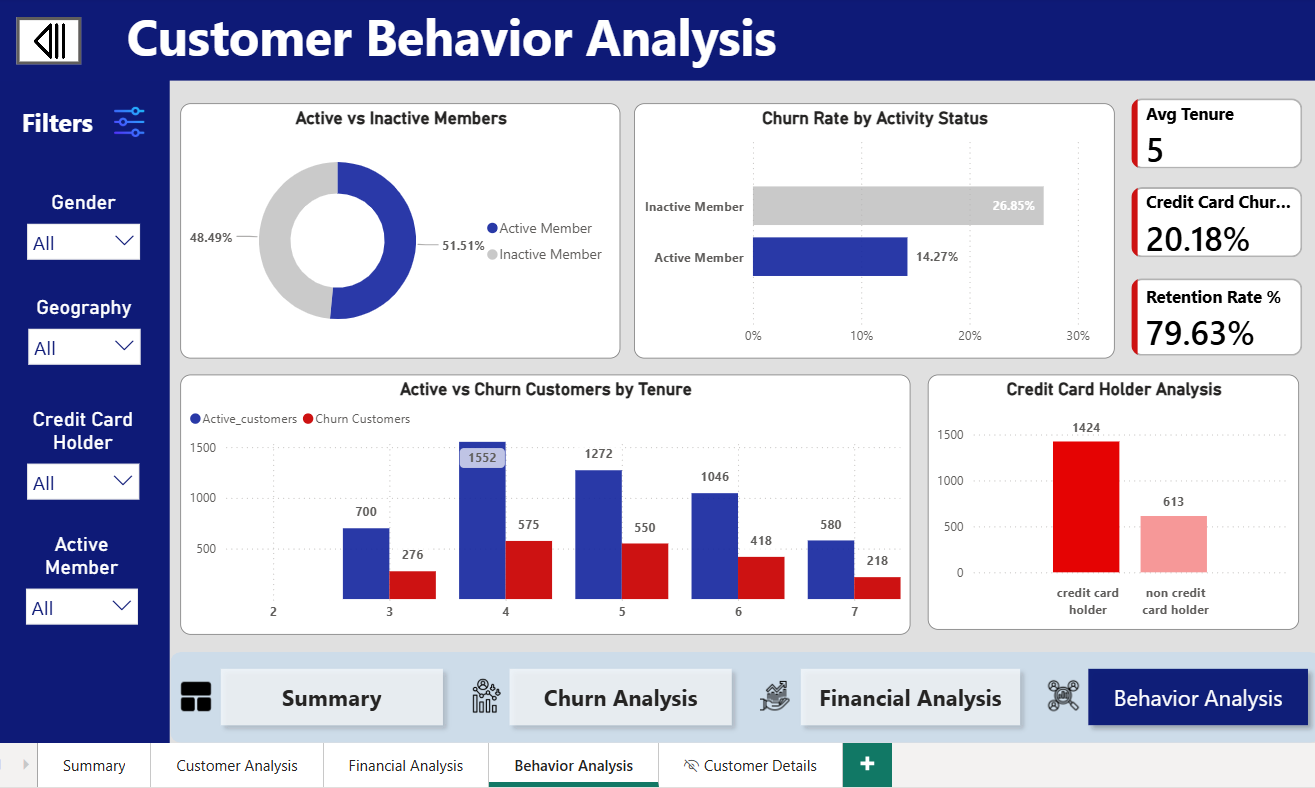

The dashboard page shown, as its layout file describes it:
{"tool":"powerbi","page":{"name":"Behavior Analysis","canvas":[1280,720],"ordinal":3},"visuals":[{"type":"shape","box":[169.7,631.7,1110.3,87.7],"z":0},{"type":"actionButton","box":[210.1,640,232.3,72.3],"z":1000},{"type":"actionButton","box":[488.3,640,232.3,72.3],"z":2000},{"type":"actionButton","box":[1047.7,640,230,72.3],"z":3000},{"type":"image","box":[179.5,658.1,30.6,34.8],"z":4000},{"type":"image","box":[452.2,658.1,45.9,33.4],"z":5000},{"type":"image","box":[738.8,658.1,30.6,34],"z":6000},{"type":"actionButton","box":[769.4,640,229.6,72.3],"z":7000},{"type":"image","box":[1017,658.1,30.6,34],"z":8000},{"type":"shape","box":[0,73,169.7,647],"z":9000},{"type":"shape","box":[0,0,1280,80.7],"z":10000},{"type":"actionButton","box":[22.3,19.5,62.6,45.9],"z":11000},{"type":"donutChart","title":"Active vs Inactive Members","fields":{"Category":["ActiveCustomer.ActiveCategory"],"Y":["01Measures.Total_Customer"]},"box":[180,102.5,425,246.2],"z":12000},{"type":"clusteredColumnChart","title":"Credit Card Holder Analysis","fields":{"Category":["CreditCard.Category"],"Y":["01Measures.Churn Customers"]},"box":[901.2,364.3,358.3,246.1],"z":13000},{"type":"clusteredBarChart","title":"Churn Rate by Activity Status","fields":{"Category":["ActiveCustomer.ActiveCategory"],"Y":["01Measures.Churn Rate %"]},"box":[617.5,102.5,463.8,246.2],"z":14000},{"type":"lineClusteredColumnComboChart","title":"Active vs Churn Customers by Tenure","fields":{"Category":["Bank_Churn.Tenure"],"Y":["01Measures.Active_customers","01Measures.Churn Customers"]},"box":[179.8,364.3,704.6,250.9],"z":15000},{"type":"cardVisual","fields":{"Data":["01Measures.Customer Retention %"]},"box":[1081,254.6,199.1,109.8],"z":16000},{"type":"cardVisual","fields":{"Data":["01Measures.Avg Tenure"]},"box":[1081,80.8,199.1,102.5],"z":17000},{"type":"cardVisual","fields":{"Data":["01Measures.Credit Card Churn %"]},"box":[1081,166.5,199.1,102.5],"z":18000},{"type":"textbox","box":[123.1,0,657.5,80.8],"z":19000},{"type":"slicer","title":"Gender","fields":{"Values":["Gender.GenderCategory"]},"box":[21.1,187.3,129.6,95.8],"z":20000},{"type":"slicer","title":"Geography","fields":{"Values":["Geography.GeographyLocation"]},"box":[22.5,288.7,128.2,97.2],"z":21000},{"type":"slicer","title":"Active Member","fields":{"Values":["ActiveCustomer.ActiveCategory"]},"box":[20.9,517.6,128,97.4],"z":22000},{"type":"slicer","title":"Credit Card Holder","fields":{"Values":["CreditCard.Category"]},"box":[22.3,396.5,128,108.5],"z":23000},{"type":"textbox","box":[21.2,100,101.2,55],"z":24000},{"type":"image","box":[101.2,102.5,58.8,36.2],"z":25000}]}

Visuals, with their boxes on the page's 1280x720 design canvas (x1, y1, x2, y2). These are canvas units, not pixel positions in the 1315x788 screenshot, which may show the page scaled, cropped or inside an application window:
shape: [170,632,1280,719]
actionButton: [210,640,442,712]
actionButton: [488,640,721,712]
actionButton: [1048,640,1278,712]
image: [180,658,210,693]
image: [452,658,498,692]
image: [739,658,769,692]
actionButton: [769,640,999,712]
image: [1017,658,1048,692]
shape: [0,73,170,720]
shape: [0,0,1280,81]
actionButton: [22,20,85,65]
"Active vs Inactive Members" donutChart: [180,102,605,349]
"Credit Card Holder Analysis" clusteredColumnChart: [901,364,1260,610]
"Churn Rate by Activity Status" clusteredBarChart: [618,102,1081,349]
"Active vs Churn Customers by Tenure" lineClusteredColumnComboChart: [180,364,884,615]
cardVisual - 01Measures.Customer Retention %: [1081,255,1280,364]
cardVisual - 01Measures.Avg Tenure: [1081,81,1280,183]
cardVisual - 01Measures.Credit Card Churn %: [1081,166,1280,269]
textbox: [123,0,781,81]
"Gender" slicer: [21,187,151,283]
"Geography" slicer: [22,289,151,386]
"Active Member" slicer: [21,518,149,615]
"Credit Card Holder" slicer: [22,396,150,505]
textbox: [21,100,122,155]
image: [101,102,160,139]
